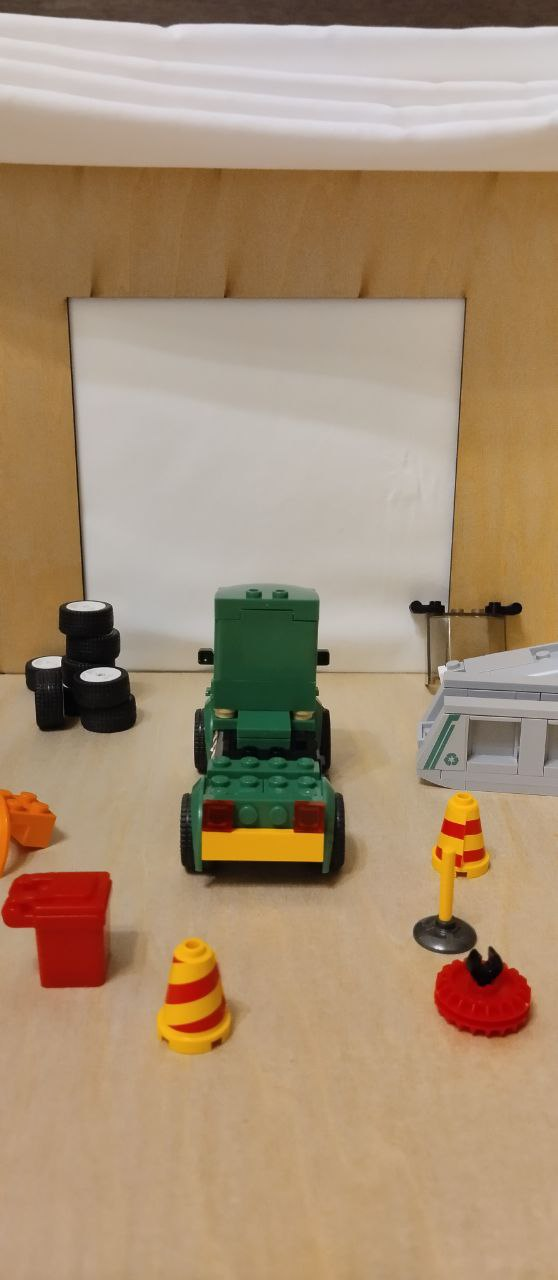Cone: (154, 938, 250, 1065), (427, 784, 498, 880)
Object Red: (0, 867, 127, 995)
Truck: (163, 575, 358, 891)
